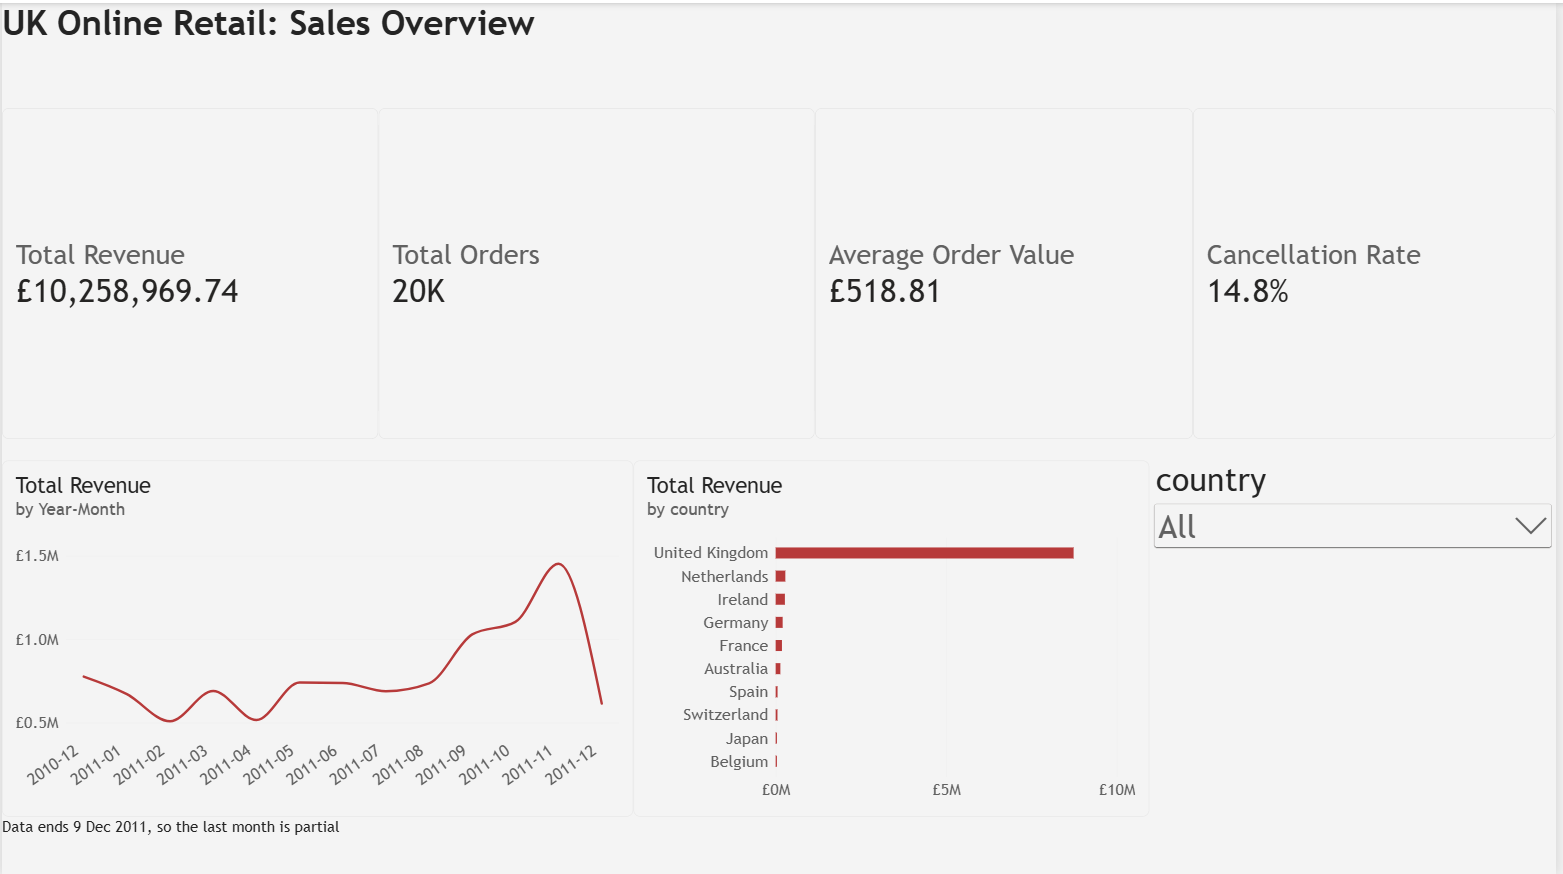

This screenshot's page, from the dashboard's own definition file:
{"tool":"powerbi","page":{"name":"Overview","canvas":[1920,1080],"ordinal":0},"visuals":[{"type":"cardVisual","fields":{"Data":["_Measures.Total Revenue"]},"box":[0,129.7,465.2,409.6],"z":0},{"type":"cardVisual","fields":{"Data":["_Measures.Total Orders"]},"box":[465,129.7,539.3,409.6],"z":1000},{"type":"cardVisual","fields":{"Data":["_Measures.Average Order Value"]},"box":[1004,129.7,467.2,409.6],"z":2000},{"type":"cardVisual","fields":{"Data":["_Measures.Cancellation Rate"]},"box":[1471,129.7,448.7,409.6],"z":3000},{"type":"lineChart","fields":{"Category":["dim_date.Year-Month"],"Y":["_Measures.Total Revenue"]},"box":[0,566.3,779.8,439.7],"z":4000},{"type":"barChart","fields":{"Category":["dim_country.country"],"Y":["_Measures.Total Revenue"]},"box":[779.8,566.3,637.4,439.7],"z":5000},{"type":"slicer","fields":{"Values":["dim_country.country"]},"box":[1418.2,566.3,502.2,135.8],"z":6000},{"type":"textbox","box":[0,0,780.1,152.3],"z":7000},{"type":"textbox","box":[0,1006,503,30.1],"z":8000}]}

Visuals, with their boxes in screenshot pixels (x1, y1, x2, y2), scaled from the page's 1920x1080 canvas onto the 1563x874 screenshot:
cardVisual - _Measures.Total Revenue: locate(0, 105, 379, 436)
cardVisual - _Measures.Total Orders: locate(379, 105, 818, 436)
cardVisual - _Measures.Average Order Value: locate(817, 105, 1198, 436)
cardVisual - _Measures.Cancellation Rate: locate(1197, 105, 1562, 436)
lineChart - dim_date.Year-Month x _Measures.Total Revenue: locate(0, 458, 635, 814)
barChart - dim_country.country x _Measures.Total Revenue: locate(635, 458, 1154, 814)
slicer - dim_country.country: locate(1155, 458, 1562, 568)
textbox: locate(0, 0, 635, 123)
textbox: locate(0, 814, 409, 838)
